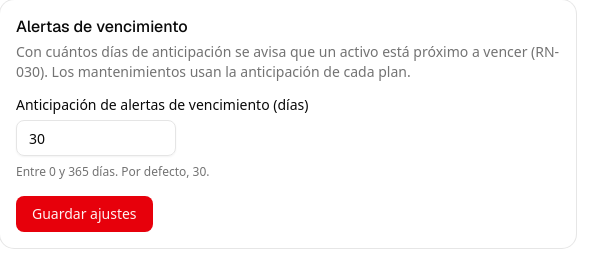
Test: SettingsTab (005 D-005, RN-030) › con configuracion.gestionar muestra y guarda la anticipación global de vencimientos
Later steps or results of the test are not shown.
Replace the text in the number field labelled "Anticipación de alertas de vencimiento (días)" with "400": (96, 138) [16,120,176,156]
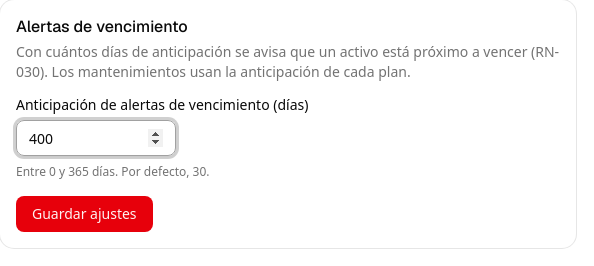
Click the button "Guardar ajustes": (84, 214) [16,196,153,232]
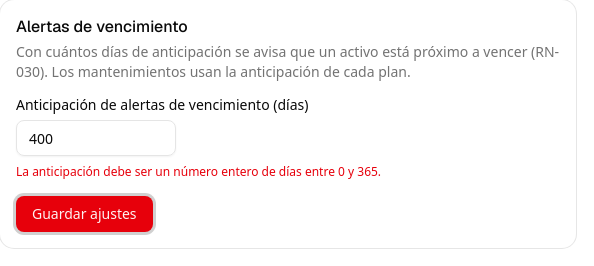
Expected: the text "La anticipación debe ser un número entero de días entre 0 y 365." is shown, [16,163,381,180]
